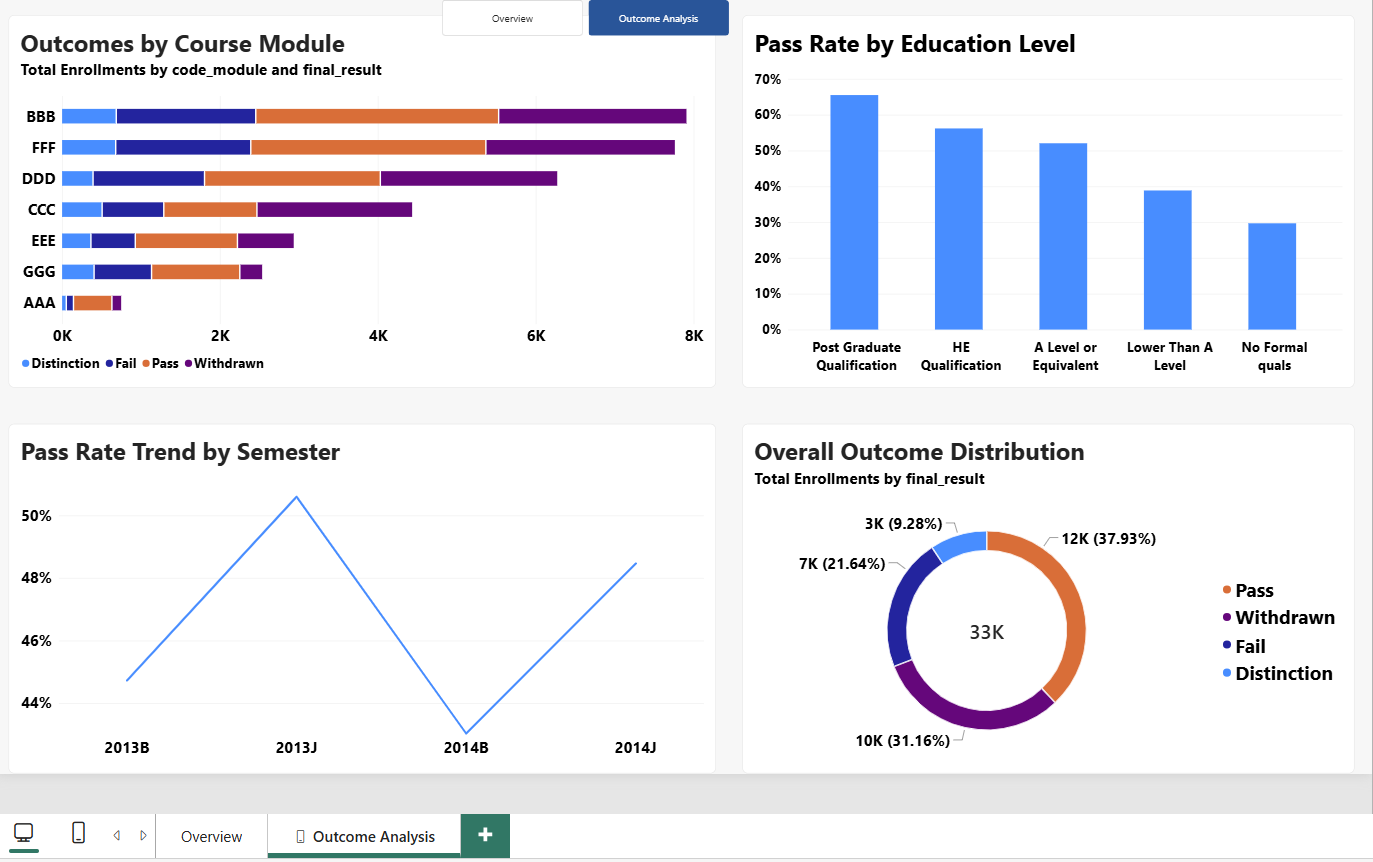

This screenshot's page, from the dashboard's own definition file:
{"tool":"powerbi","page":{"name":"Outcome Analysis","canvas":[1920,1080],"ordinal":1},"visuals":[{"type":"donutChart","title":"Overall Outcome Distribution","fields":{"Category":["studentInfo.final_result"],"Y":["studentInfo.Total Students"]},"box":[1041.3,591.3,854.7,488.4],"z":0},{"type":"barChart","title":"Outcomes by Course Module","fields":{"Category":["studentInfo.code_module"],"Series":["studentInfo.final_result"],"Y":["studentInfo.Total Students"]},"box":[17.4,20.9,987.2,519.8],"z":1000},{"type":"clusteredColumnChart","title":"Pass Rate by Education Level","fields":{"Category":["studentInfo.highest_education"],"Y":["studentInfo.Pass Rate"]},"box":[1041.3,20.9,854.7,519.8],"z":2000},{"type":"lineChart","title":"Pass Rate Trend by Semester","fields":{"Category":["studentInfo.code_presentation"],"Y":["studentInfo.Pass Rate"]},"box":[17.4,591.3,987.2,488.4],"z":3000},{"type":"pageNavigator","box":[622.7,0,400,50],"z":3001}]}

Visuals, with their boxes on the page's 1920x1080 design canvas (x1, y1, x2, y2). These are canvas units, not pixel positions in the 1373x862 screenshot, which may show the page scaled, cropped or inside an application window:
"Overall Outcome Distribution" donutChart: pyautogui.locateOnScreen(1041, 591, 1896, 1080)
"Outcomes by Course Module" barChart: pyautogui.locateOnScreen(17, 21, 1005, 541)
"Pass Rate by Education Level" clusteredColumnChart: pyautogui.locateOnScreen(1041, 21, 1896, 541)
"Pass Rate Trend by Semester" lineChart: pyautogui.locateOnScreen(17, 591, 1005, 1080)
pageNavigator: pyautogui.locateOnScreen(623, 0, 1023, 50)
